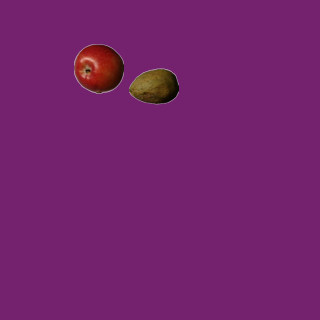Apple Braeburn: (73, 43, 123, 93)
Papaya: (128, 61, 178, 111)
